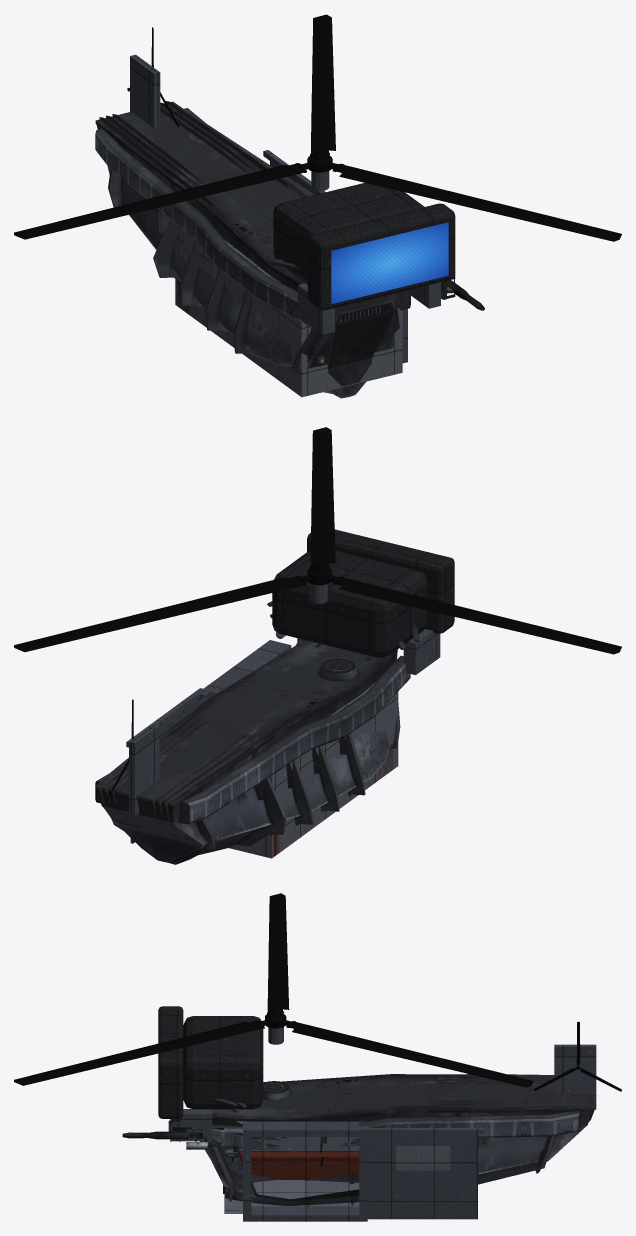
The model's file is tvheli.glb.
The picture shows the model from 3 angles, top to bottom: view 1: azimuth 30°, elevation 25°; view 2: azimuth 150°, elevation 25°; view 3: azimuth 270°, elevation 25°; orthographic projection. The views are drawn at different scales.
Visible parts, largest first — view 1: Cabin, Body, Rotor_Main, Screen; view 2: Cabin, Body, Rotor_Main; view 3: Cabin, Body, Door, Rotor_Main, Rotor_Tail.
Boxes of the visible parts, x1,y1,x2,y2 form: Cabin: [95, 101, 484, 398]; Body: [130, 54, 455, 334]; Rotor_Main: [14, 14, 621, 241]; Screen: [331, 222, 448, 304]; Cabin: [95, 601, 419, 864]; Body: [129, 529, 454, 821]; Rotor_Main: [14, 427, 621, 654]; Cabin: [122, 1074, 596, 1221]; Body: [158, 1006, 596, 1141]; Door: [366, 1134, 477, 1219]; Rotor_Main: [14, 893, 533, 1087]; Rotor_Tail: [533, 1021, 621, 1091].
Bounding box in the file's own units: 7.6 × 3.65 × 10.13.
8 materials, 7 textured.
